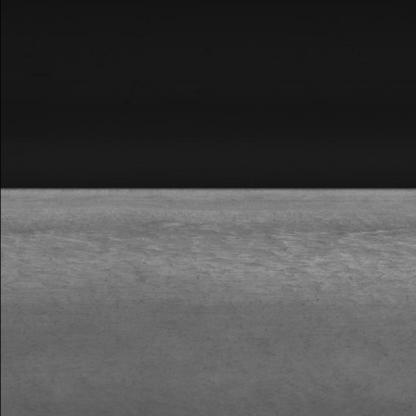silk_spot: (26, 214, 402, 301)
